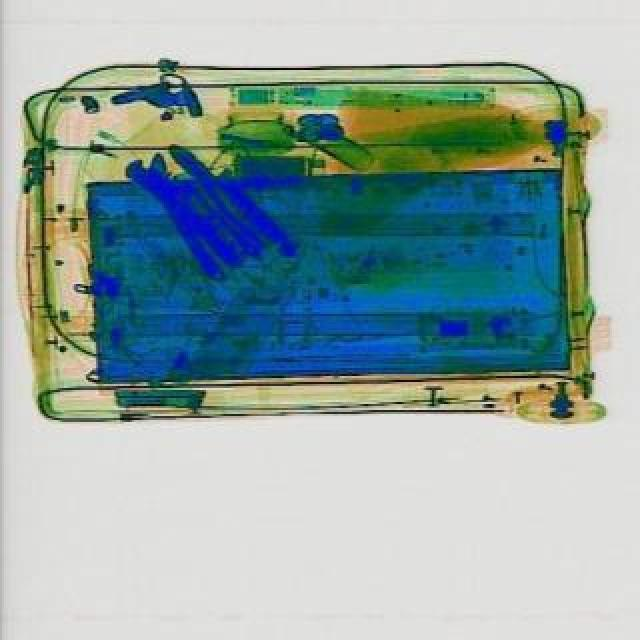scissors: (118, 148, 234, 292)
wrench: (158, 134, 282, 254)
